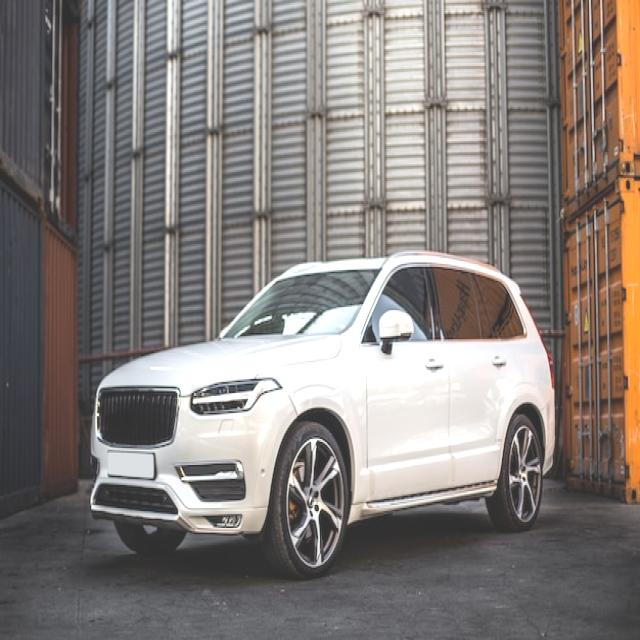SUV: (88, 247, 557, 579)
